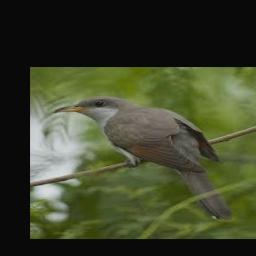Cuckoo: (54, 96, 233, 219)
